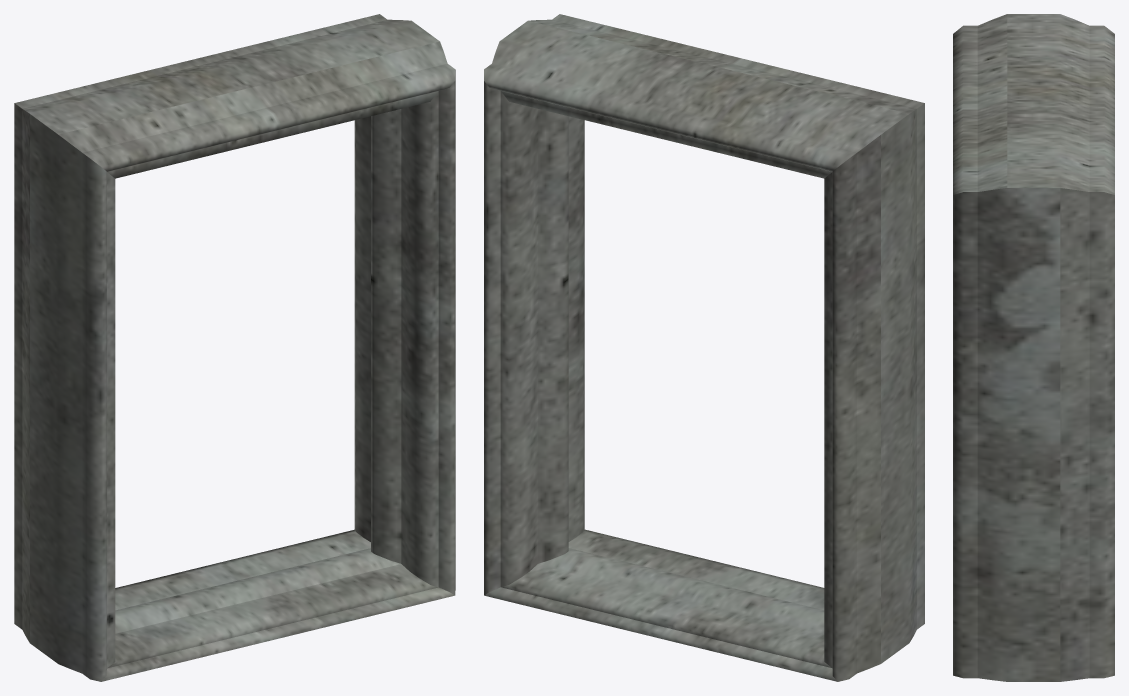
File: scp_doorframe.dae
3 views of the same model, side by side, from view 1: azimuth 30°, elevation 25°; view 2: azimuth 150°, elevation 25°; view 3: azimuth 270°, elevation 25° (orthographic). The views are drawn at different scales.
Visible parts, largest first — view 1: mansionbase_doorframe; view 2: mansionbase_doorframe; view 3: mansionbase_doorframe.
Boxes of the visible parts, x1,y1,x2,y2 form: mansionbase_doorframe: (14, 14, 455, 681); mansionbase_doorframe: (484, 14, 924, 681); mansionbase_doorframe: (953, 14, 1114, 681).
Size of the model in its own units: 2.42 by 0.9526 by 3.21.
1 material, 1 textured.
